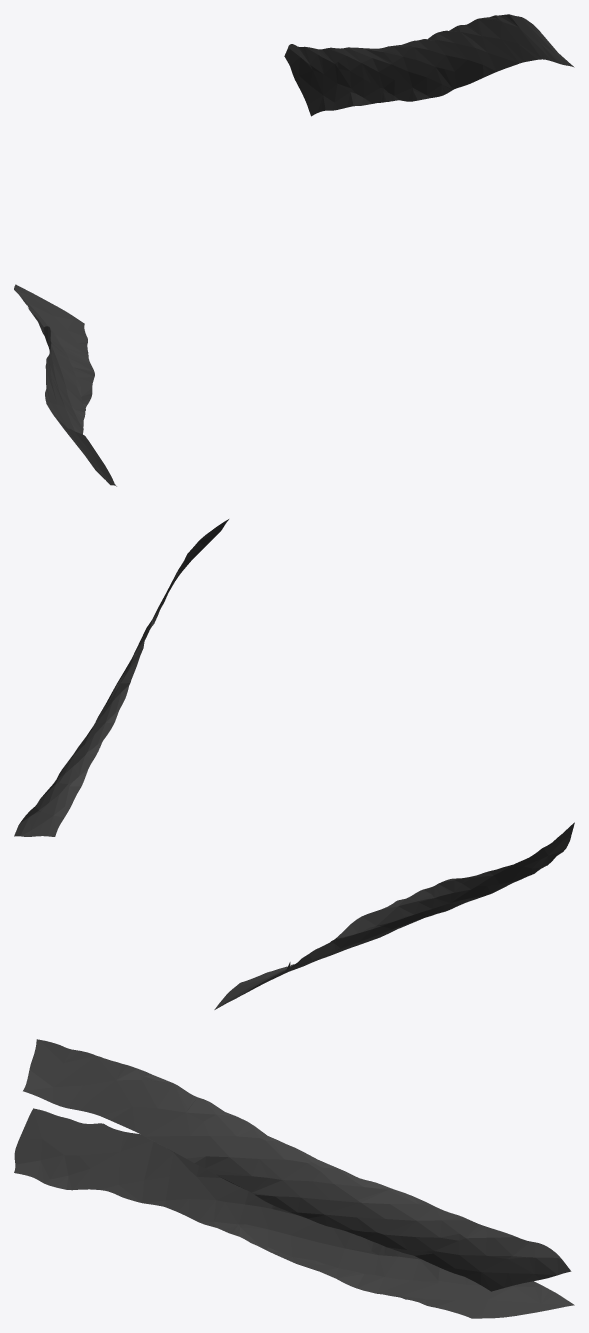
The model's file is tendon_ext_branch_interosseus.glb.
The picture shows the model from 3 angles, top to bottom: view 1: azimuth 30°, elevation 25°; view 2: azimuth 150°, elevation 25°; view 3: azimuth 270°, elevation 25°; orthographic projection. The views are drawn at different scales.
Visible parts, largest first — view 1: tendon_ext_branch_interosseus; view 2: tendon_ext_branch_interosseus; view 3: tendon_ext_branch_interosseus.
Part boxes in pixels (x1,y1,x2,y2): tendon_ext_branch_interosseus: [14, 14, 574, 486]; tendon_ext_branch_interosseus: [14, 519, 574, 1009]; tendon_ext_branch_interosseus: [14, 1039, 574, 1318].
Size of the model in its own units: 0.0981 by 0.0758 by 0.0982.
1 material, 1 textured.
